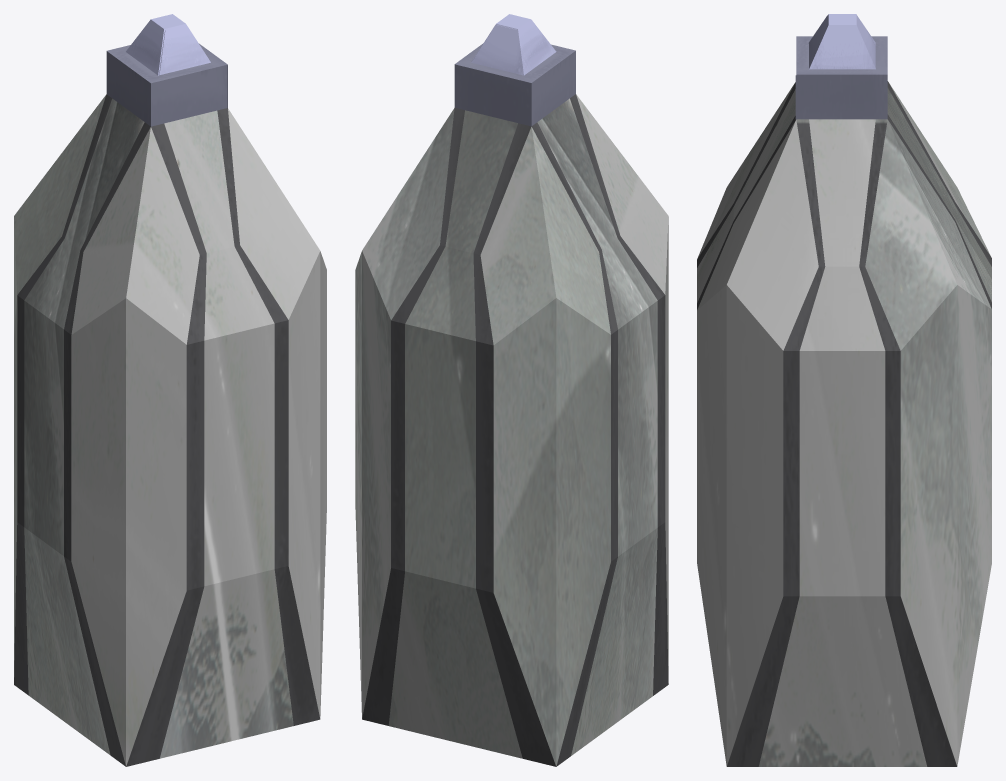
Rendered from BottleShardsdoublenormals.fbx.
3 renders of one model, left to right at view 1: azimuth 30°, elevation 25°; view 2: azimuth 150°, elevation 25°; view 3: azimuth 270°, elevation 25°, orthographic. The views are drawn at different scales.
Parts seen in each view (by area): view 1: Shard7, Shard4, Shard9, Shard8, Shard2, Shard1, Shard3, Shard6, Shard16, Shard17, Shard18; view 2: Shard23, Shard22, Shard2, Shard21, Shard3, Shard4, Shard1, Shard14, Shard10, Shard18, Shard17, Shard19; view 3: Shard10, Shard9, Shard13, Shard22, Shard21, Shard11, Shard14, Shard12, Shard16, Shard6, Shard1, Shard7 (+1 smaller).
Boxes of the visible parts, bbox=[...] form: Shard7: bbox=[126, 245, 320, 766]; Shard4: bbox=[24, 298, 125, 766]; Shard9: bbox=[228, 108, 326, 717]; Shard8: bbox=[126, 298, 186, 766]; Shard2: bbox=[14, 94, 150, 695]; Shard1: bbox=[71, 127, 199, 344]; Shard3: bbox=[24, 238, 83, 561]; Shard6: bbox=[151, 64, 239, 254]; Shard16: bbox=[151, 14, 210, 75]; Shard17: bbox=[106, 51, 150, 126]; Shard18: bbox=[107, 19, 165, 78]; Shard23: bbox=[362, 298, 556, 766]; Shard22: bbox=[362, 251, 493, 718]; Shard2: bbox=[531, 94, 620, 766]; Shard21: bbox=[362, 107, 556, 345]; Shard3: bbox=[602, 236, 665, 556]; Shard4: bbox=[571, 217, 668, 755]; Shard1: bbox=[576, 94, 668, 294]; Shard14: bbox=[454, 43, 523, 122]; Shard10: bbox=[355, 251, 361, 712]; Shard18: bbox=[518, 19, 569, 126]; Shard17: bbox=[531, 51, 575, 125]; Shard19: bbox=[471, 24, 523, 75]; Shard10: bbox=[796, 119, 957, 765]; Shard9: bbox=[697, 120, 818, 766]; Shard13: bbox=[727, 596, 957, 766]; Shard22: bbox=[957, 285, 991, 765]; Shard21: bbox=[887, 81, 991, 309]; Shard11: bbox=[783, 266, 885, 350]; Shard14: bbox=[795, 43, 887, 119]; Shard12: bbox=[783, 351, 799, 596]; Shard16: bbox=[809, 14, 875, 69]; Shard6: bbox=[733, 82, 795, 222]; Shard1: bbox=[697, 82, 795, 258]; Shard7: bbox=[697, 204, 733, 309].
Size of the model in its own units: 78.5 by 201 by 76.71.
1 material, 1 textured.
